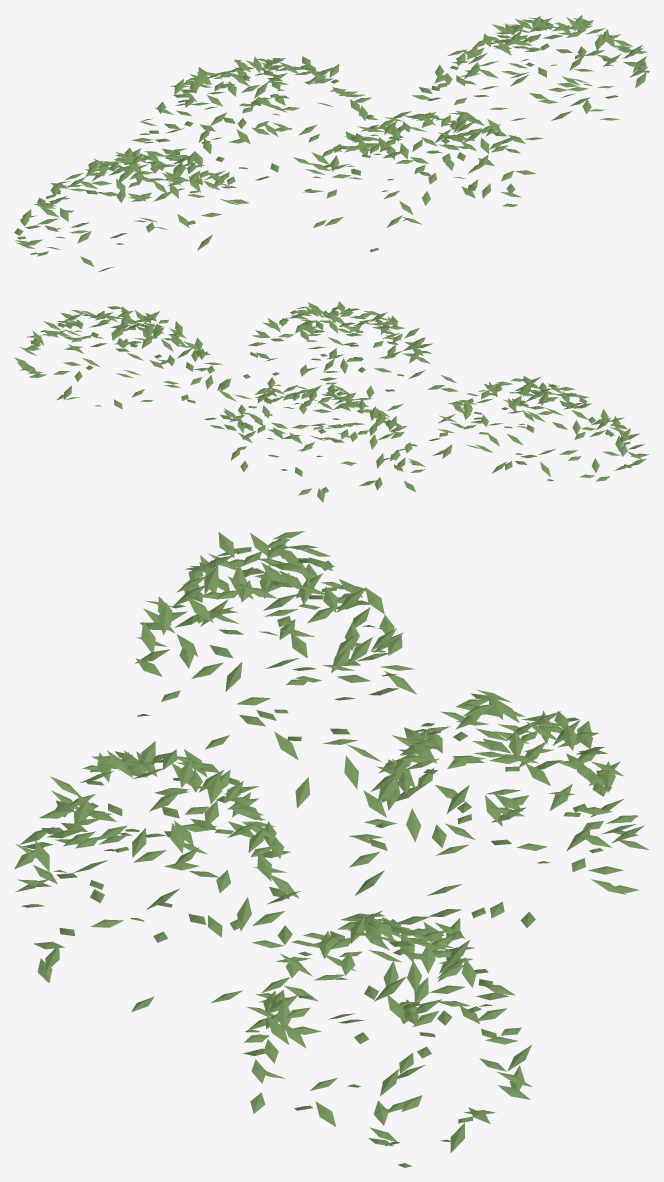
File: teaching3-vegetation-00-near.glb
The picture shows the model from 3 angles, top to bottom: view 1: azimuth 30°, elevation 25°; view 2: azimuth 150°, elevation 25°; view 3: azimuth 270°, elevation 25°; orthographic projection. The views are drawn at different scales.
Visible parts, largest first — view 1: shrubs; view 2: shrubs; view 3: shrubs.
Part boxes in pixels (x1=…): shrubs: x1=14, y1=15, x2=649, y2=272; shrubs: x1=14, y1=301, x2=648, y2=502; shrubs: x1=14, y1=531, x2=648, y2=1167.
Bounding box in the file's own units: 11.85 × 1.58 × 5.53.
